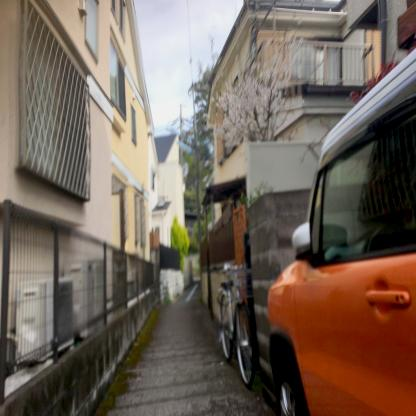Someiyoshino: (202, 16, 316, 160)
